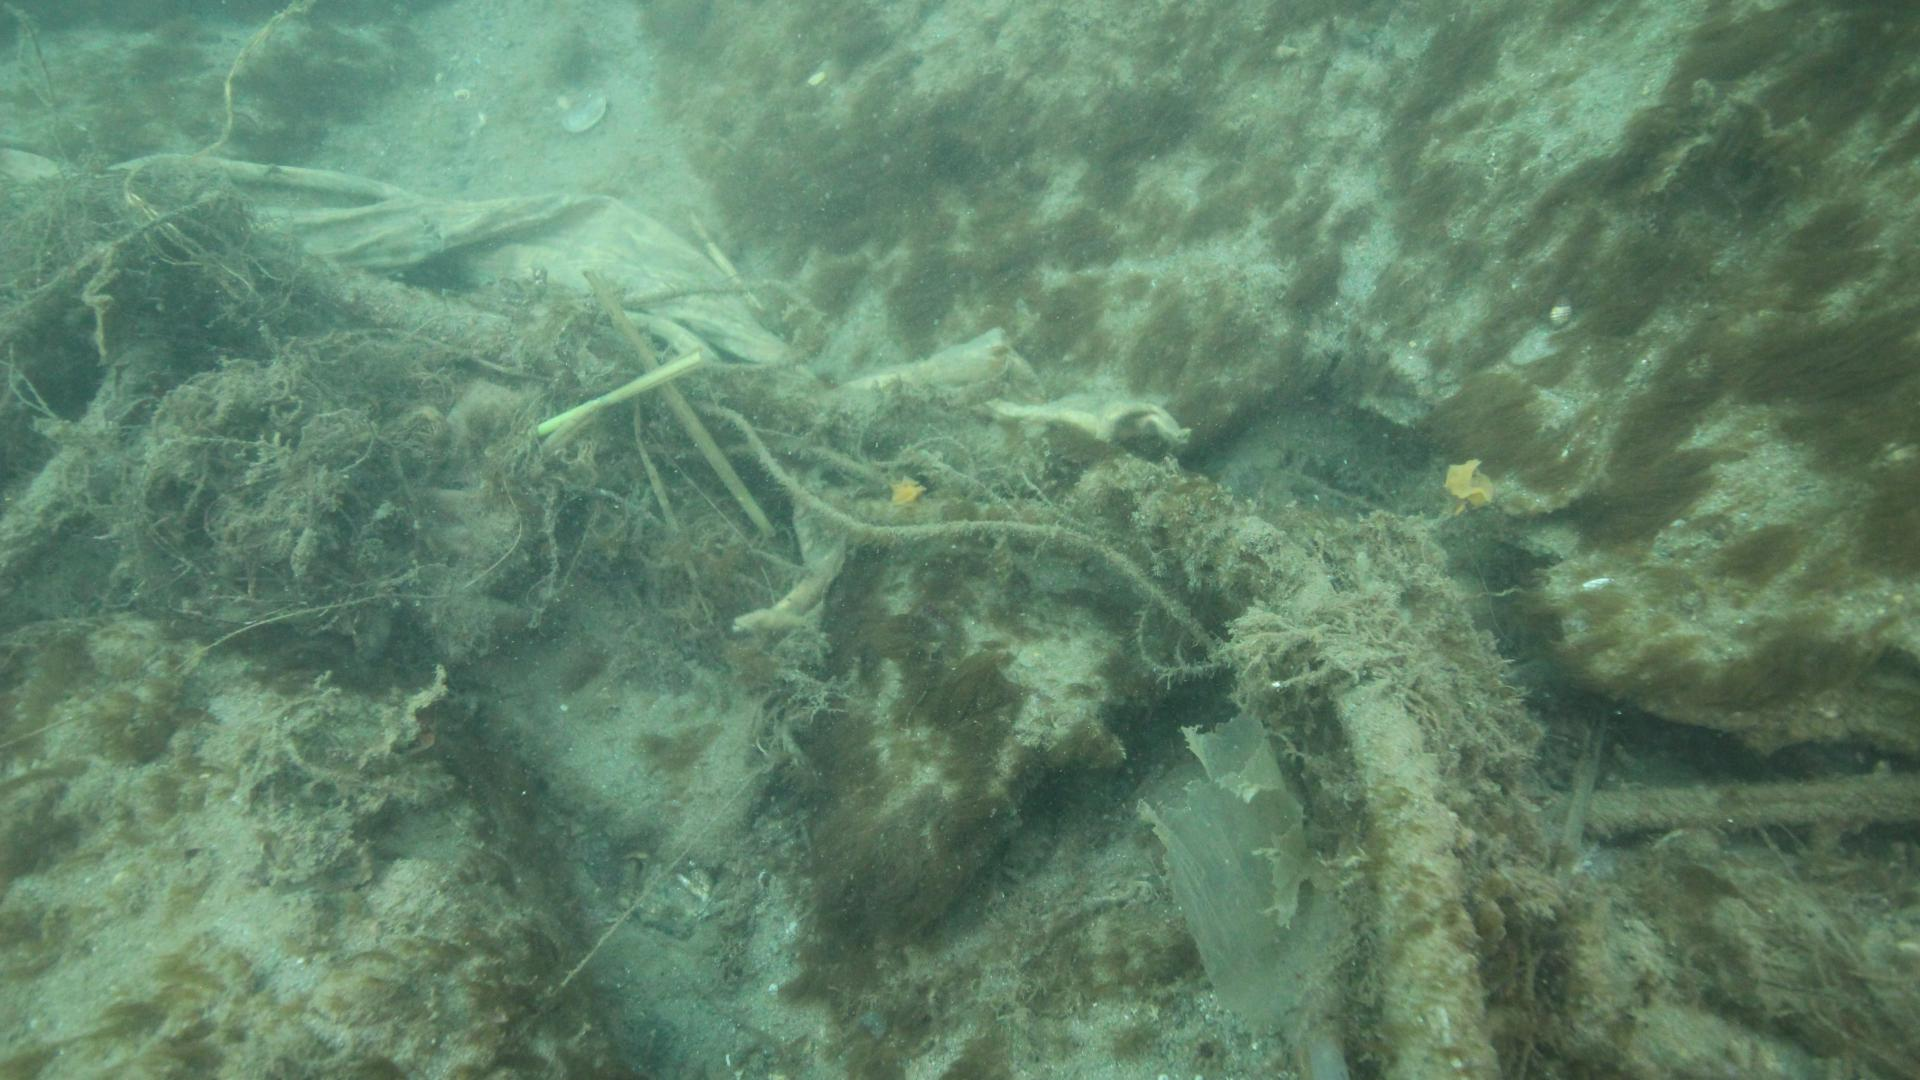rope: (255, 225, 1502, 1080)
